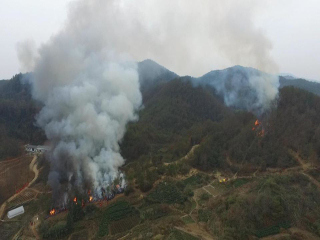smoke: (18, 3, 152, 201), (205, 2, 284, 118)
